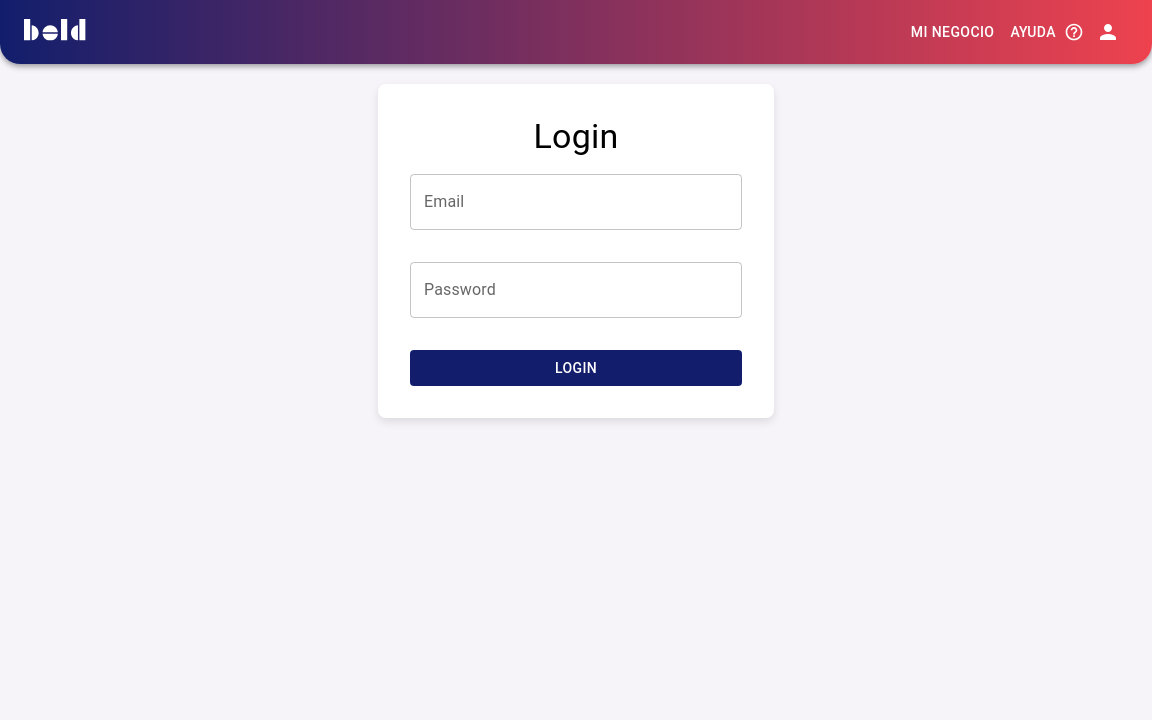
Test: Login Page › should display an error message on failed authentication
Step 1. Type "test@example.com" into the field named "email" → (576, 202), box [410,174,742,230]
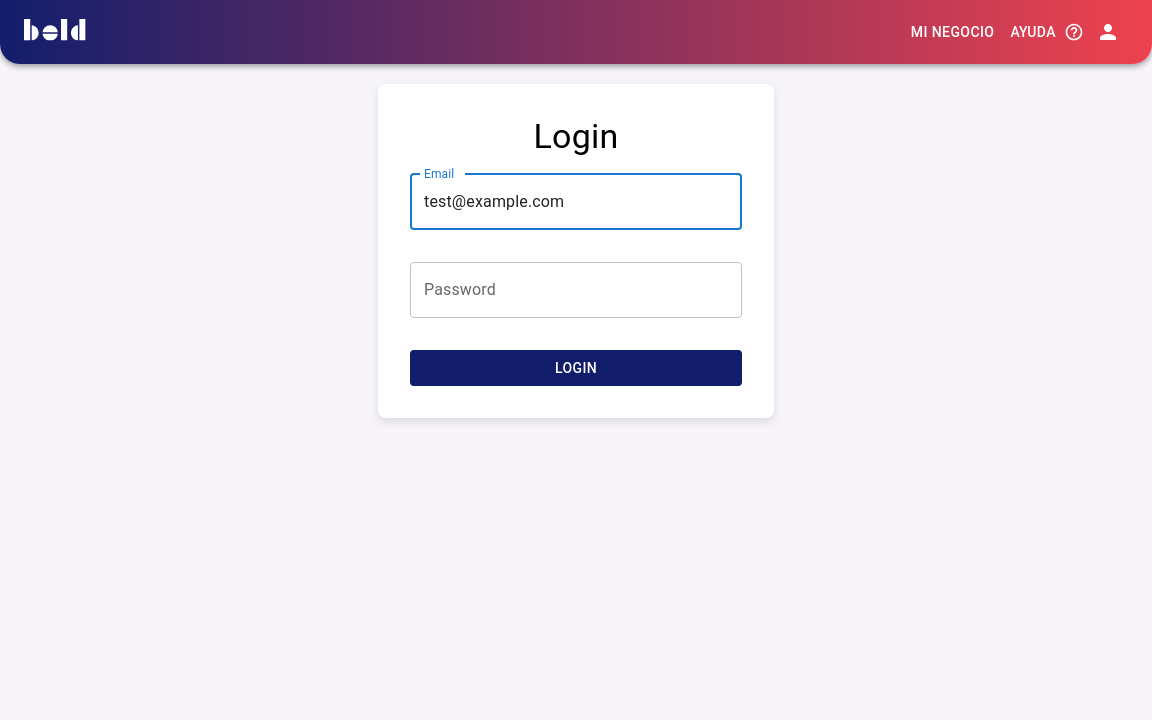
Step 2. Type "wrongpassword" into the password field named "password" → (576, 290), box [410,262,742,318]
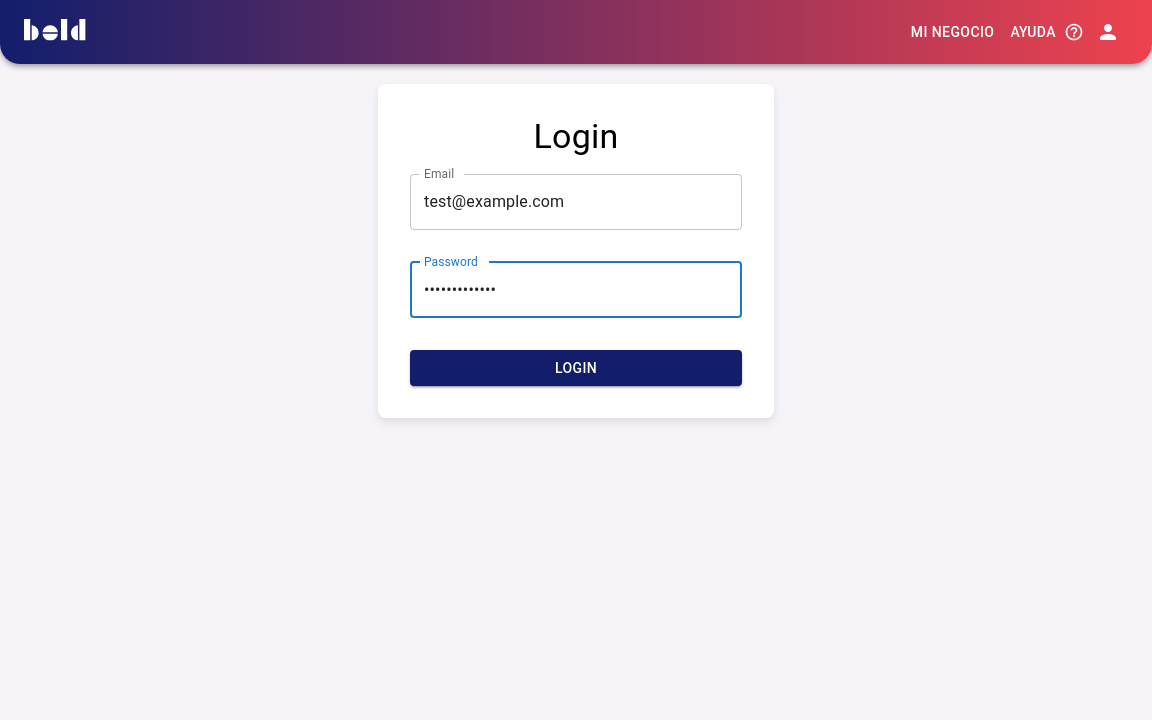
Step 3. Click the submit button → (576, 369), box [410,350,742,387]
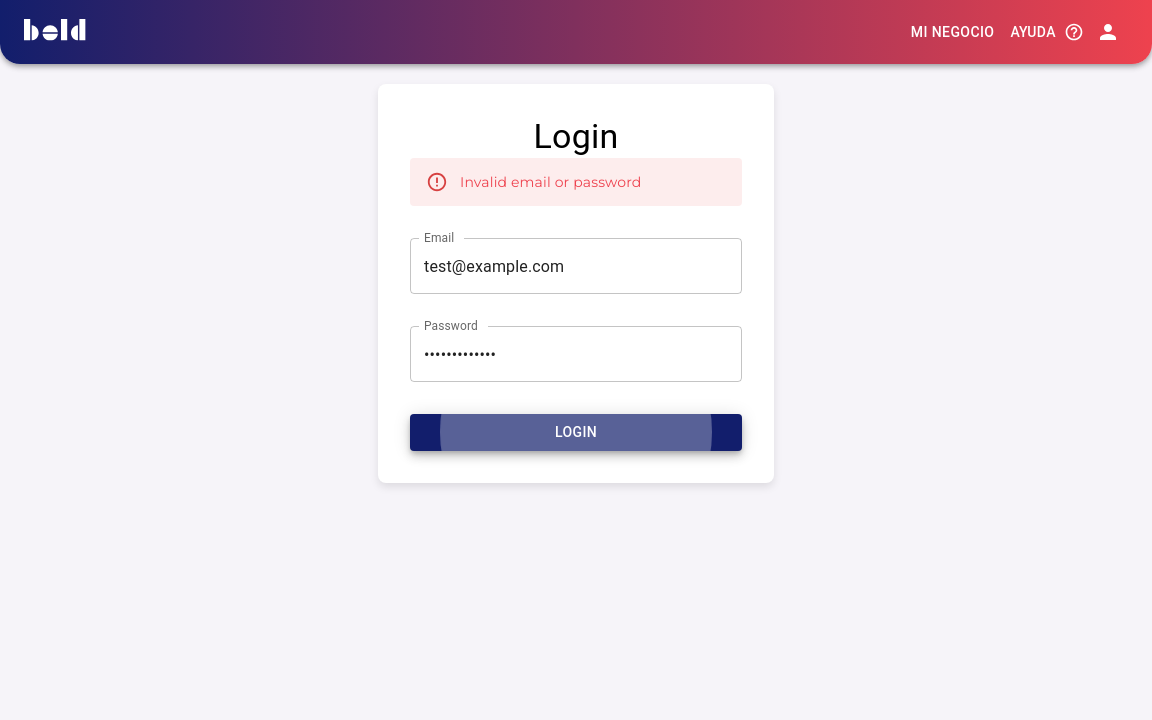
Result: the message with class "login-error" reads "Invalid email or password" at [410,158,742,206]
